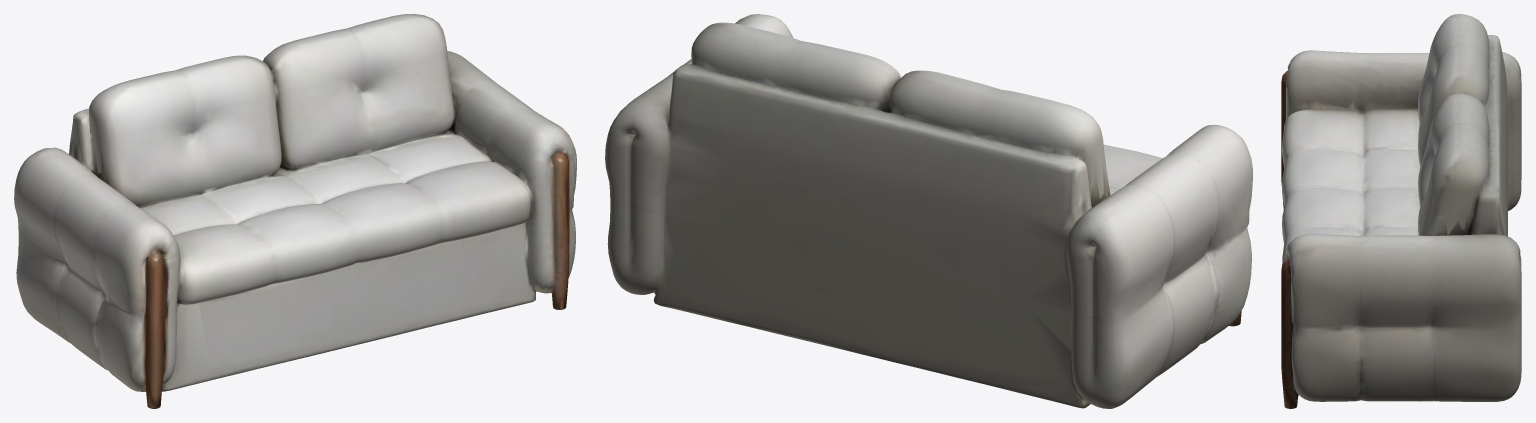
File: card.glb
3 views of the same model, side by side, from view 1: azimuth 30°, elevation 25°; view 2: azimuth 150°, elevation 25°; view 3: azimuth 270°, elevation 25° (orthographic). The views are drawn at different scales.
Parts seen in each view (by area): view 1: model; view 2: model; view 3: model.
Boxes of the visible parts, x1,y1,x2,y2 form: model: (14, 14, 576, 408); model: (605, 14, 1252, 408); model: (1281, 14, 1521, 408).
Bounding box in the file's own units: 2 × 1.01 × 0.9612.
Materials: 1 (1 with a texture image).
